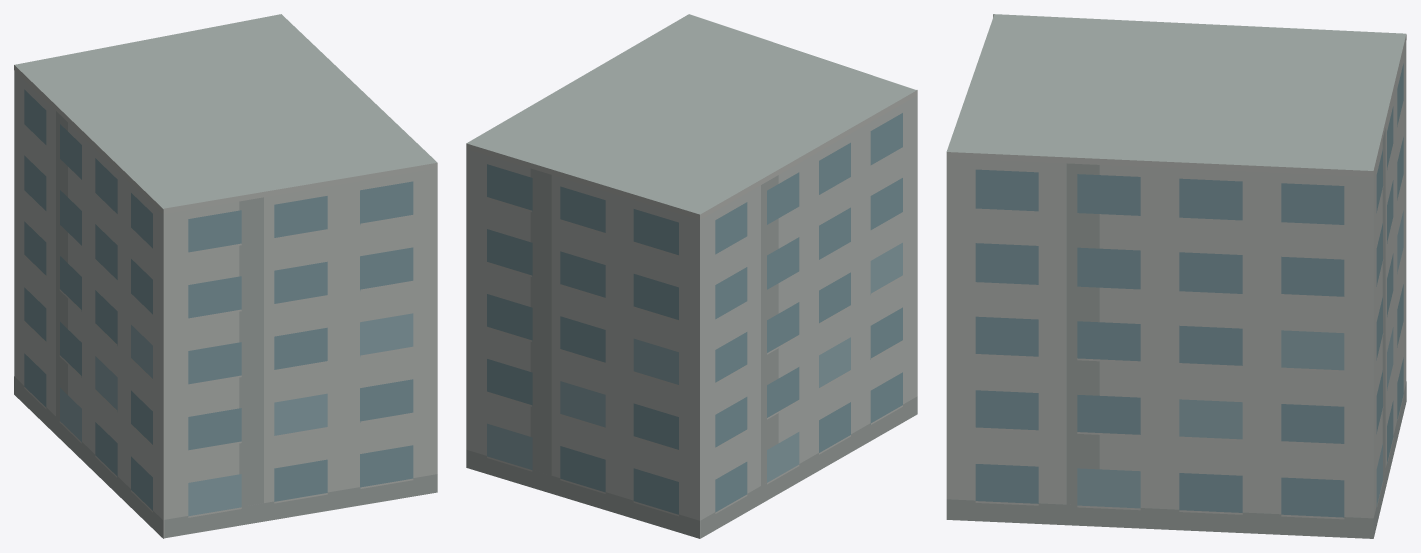
File: survey-upis-32816293.glb
3 renders of one model, left to right at view 1: azimuth 30°, elevation 25°; view 2: azimuth 150°, elevation 25°; view 3: azimuth 270°, elevation 25°, orthographic. The views are drawn at different scales.
Parts seen in each view (by area): view 1: survey-upis-32816293.tmp; view 2: survey-upis-32816293.tmp; view 3: survey-upis-32816293.tmp.
Part boxes in pixels (left/top/right/bottom): survey-upis-32816293.tmp: left=14, top=14, right=437, bottom=538; survey-upis-32816293.tmp: left=466, top=14, right=917, bottom=538; survey-upis-32816293.tmp: left=946, top=14, right=1406, bottom=538.
Size of the model in its own units: 13.38 by 14.6 by 16.56.
